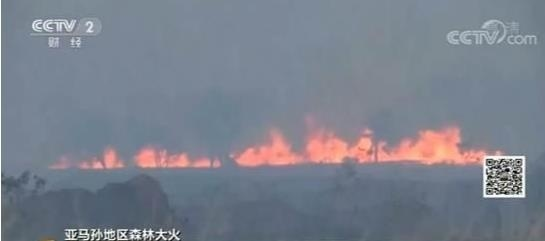fire: (206, 116, 491, 168)
